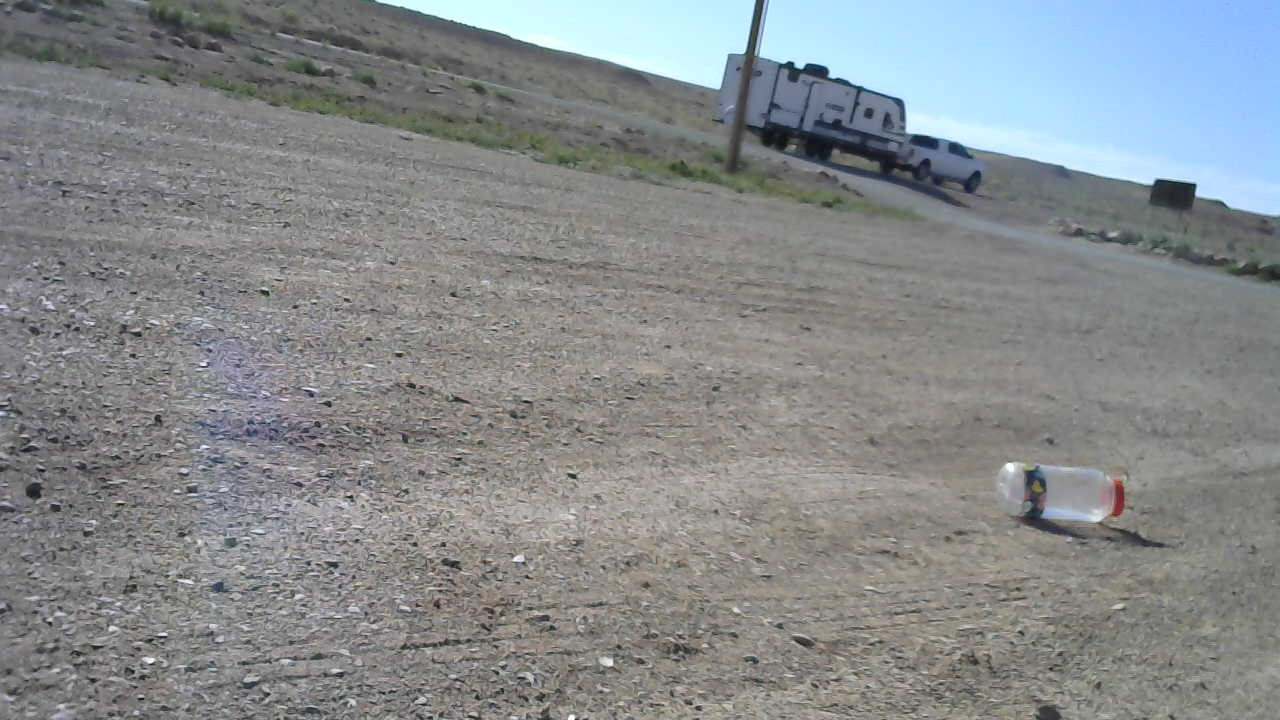bottle: (990, 451, 1133, 529)
